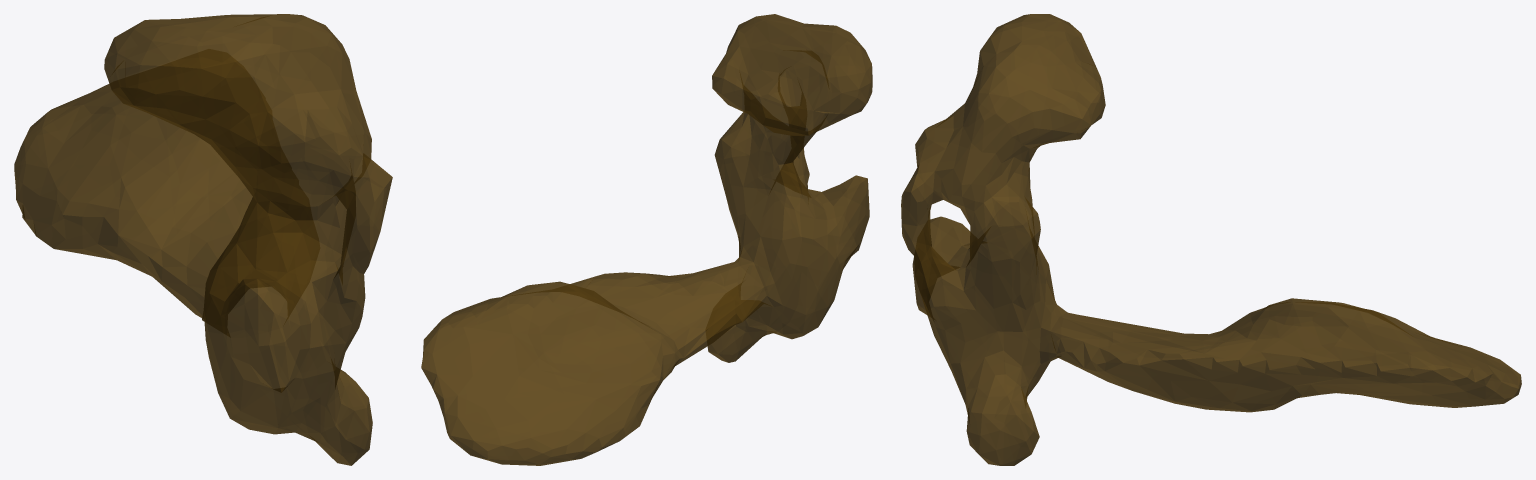
File: AngelsDust3.glb
3 renders of one model, left to right at view 1: azimuth 30°, elevation 25°; view 2: azimuth 150°, elevation 25°; view 3: azimuth 270°, elevation 25°, orthographic. The views are drawn at different scales.
Visible parts, largest first — view 1: AngelsDust3; view 2: AngelsDust3; view 3: AngelsDust3.
Boxes of the visible parts, x1=… form: AngelsDust3: x1=14, y1=14, x2=392, y2=465; AngelsDust3: x1=421, y1=14, x2=872, y2=465; AngelsDust3: x1=901, y1=14, x2=1521, y2=465.
Bounding box in the file's own units: 73.88 × 96.13 × 140.
